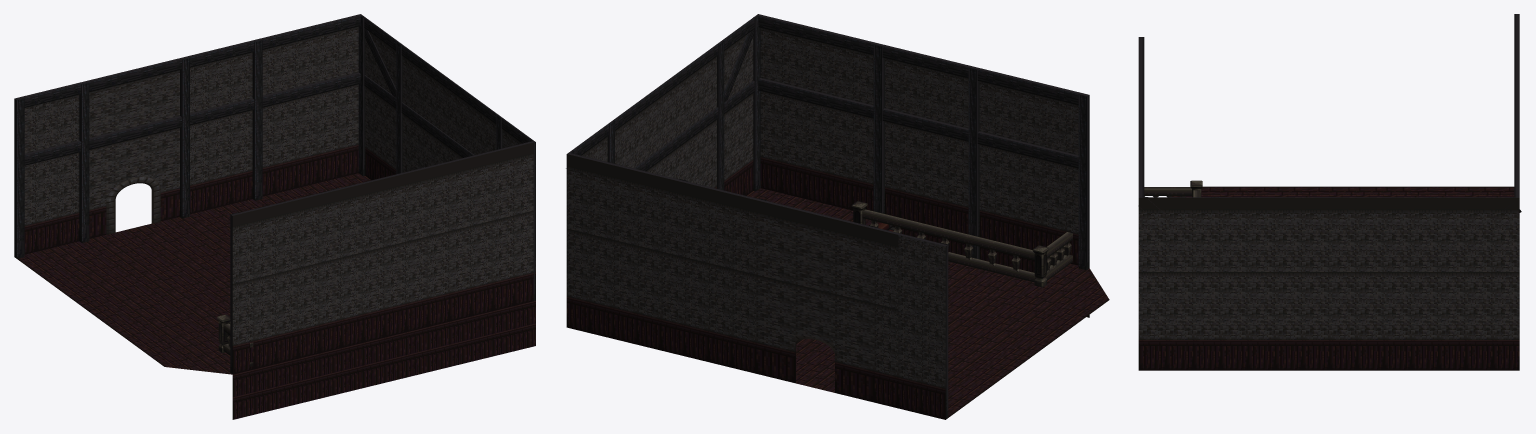
File: EnvBdgMD_City_A_Indoor_Bar_2F.FBX
3 renders of one model, left to right at view 1: azimuth 30°, elevation 25°; view 2: azimuth 150°, elevation 25°; view 3: azimuth 270°, elevation 25°, orthographic. The views are drawn at different scales.
Visible parts, largest first — view 1: EnvBdgMD_City_A_Indoor_Bar_2F; view 2: EnvBdgMD_City_A_Indoor_Bar_2F; view 3: EnvBdgMD_City_A_Indoor_Bar_2F.
Part boxes in pixels (x1,y1,x2,y2): EnvBdgMD_City_A_Indoor_Bar_2F: (14, 14, 535, 419); EnvBdgMD_City_A_Indoor_Bar_2F: (566, 14, 1109, 419); EnvBdgMD_City_A_Indoor_Bar_2F: (1138, 14, 1521, 370).
Bounding box in the file's own units: 1602 × 900 × 1408.
